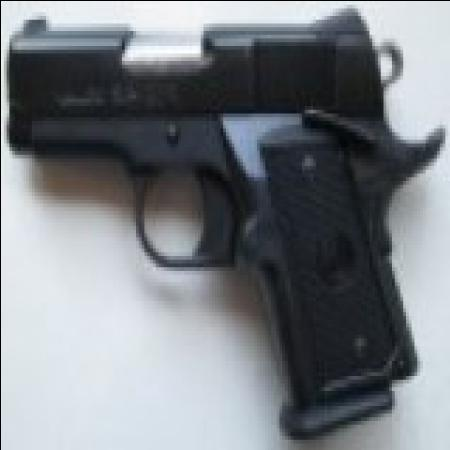Pistol: (11, 7, 419, 423)
